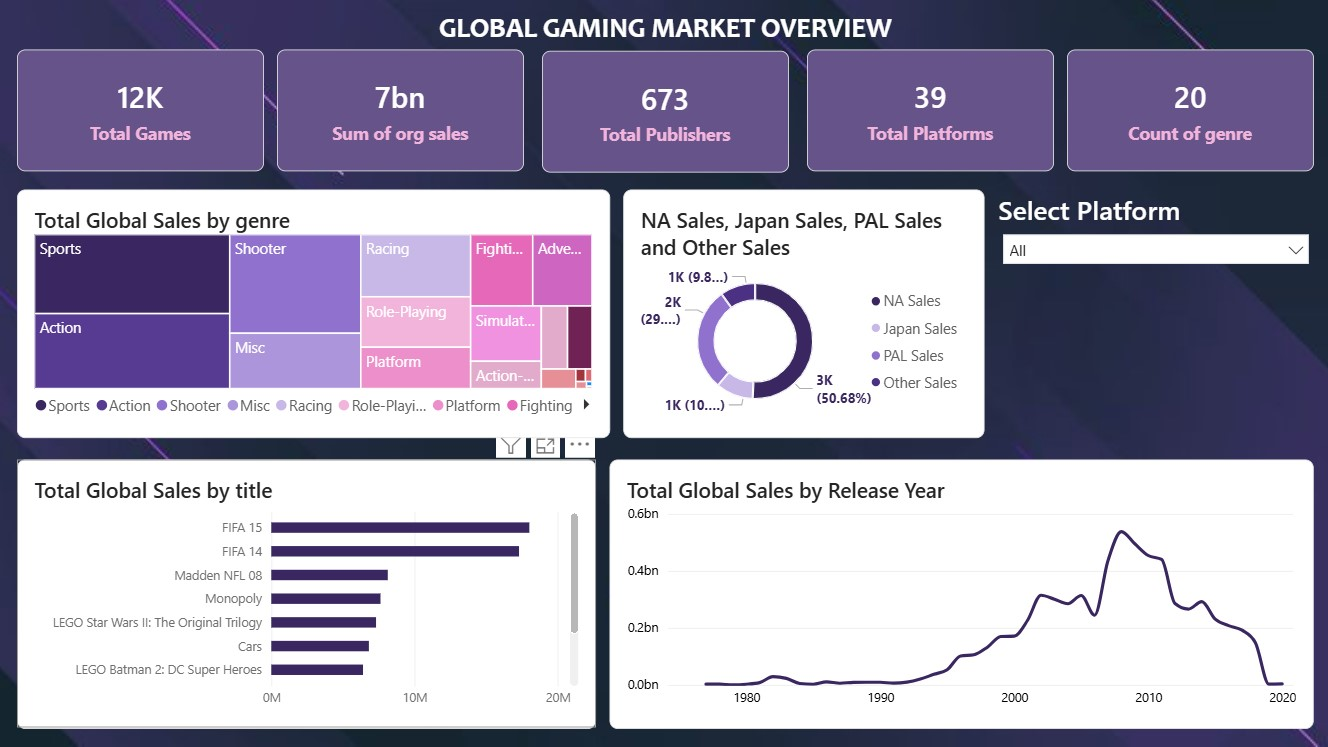

This screenshot's page, from the dashboard's own definition file:
{"tool":"powerbi","page":{"name":"Page 1","canvas":[1280,720],"ordinal":0},"visuals":[{"type":"card","fields":{"Values":["measure.Total Games"]},"box":[18.8,50.5,236.6,116.9],"z":0},{"type":"card","fields":{"Values":["Sum(data.org sales)"]},"box":[268.4,50.5,236.6,116.9],"z":1000},{"type":"card","fields":{"Values":["measure.Total Publishers"]},"box":[522.3,51.9,236.6,116.9],"z":2000},{"type":"card","fields":{"Values":["measure.Total Platforms"]},"box":[776.2,50.5,236.6,116.9],"z":3000},{"type":"lineChart","fields":{"Category":["data.Release Year"],"Y":["measure.Total Global Sales"]},"box":[587.2,442.9,675.2,258.3],"z":4000},{"type":"donutChart","fields":{"Y":["measure.NA Sales","measure.Japan Sales","measure.PAL Sales","measure.Other Sales"]},"box":[600.2,184.7,346.3,238.1],"z":5000},{"type":"clusteredBarChart","fields":{"Category":["data.title"],"Y":["measure.Total Global Sales"]},"box":[18.8,442.9,555.5,258.3],"z":6000},{"type":"treemap","fields":{"Group":["data.genre"],"Values":["measure.Total Global Sales"]},"box":[18.8,184.7,568.4,238.1],"z":7000},{"type":"card","fields":{"Values":["Count(data.genre)"]},"box":[1025.8,50.5,236.6,116.9],"z":8000},{"type":"textbox","box":[18.1,12.7,1245.3,38],"z":9000},{"type":"slicer","title":"Select Platform","fields":{"Values":["data.console"]},"box":[959.4,187.6,303,232.3],"z":10000}]}

Visuals, with their boxes in screenshot pixels (x1, y1, x2, y2), scaled from the page's 1280x720 canvas onto the 1328x747 screenshot:
card - measure.Total Games: 20 52 265 174
card - Sum(data.org sales): 278 52 524 174
card - measure.Total Publishers: 542 54 787 175
card - measure.Total Platforms: 805 52 1051 174
lineChart - data.Release Year x measure.Total Global Sales: 609 460 1310 727
donutChart - measure.NA Sales x measure.Japan Sales: 623 192 982 439
clusteredBarChart - data.title x measure.Total Global Sales: 20 460 596 727
treemap - data.genre x measure.Total Global Sales: 20 192 609 439
card - Count(data.genre): 1064 52 1310 174
textbox: 19 13 1311 53
"Select Platform" slicer: 995 195 1310 436
